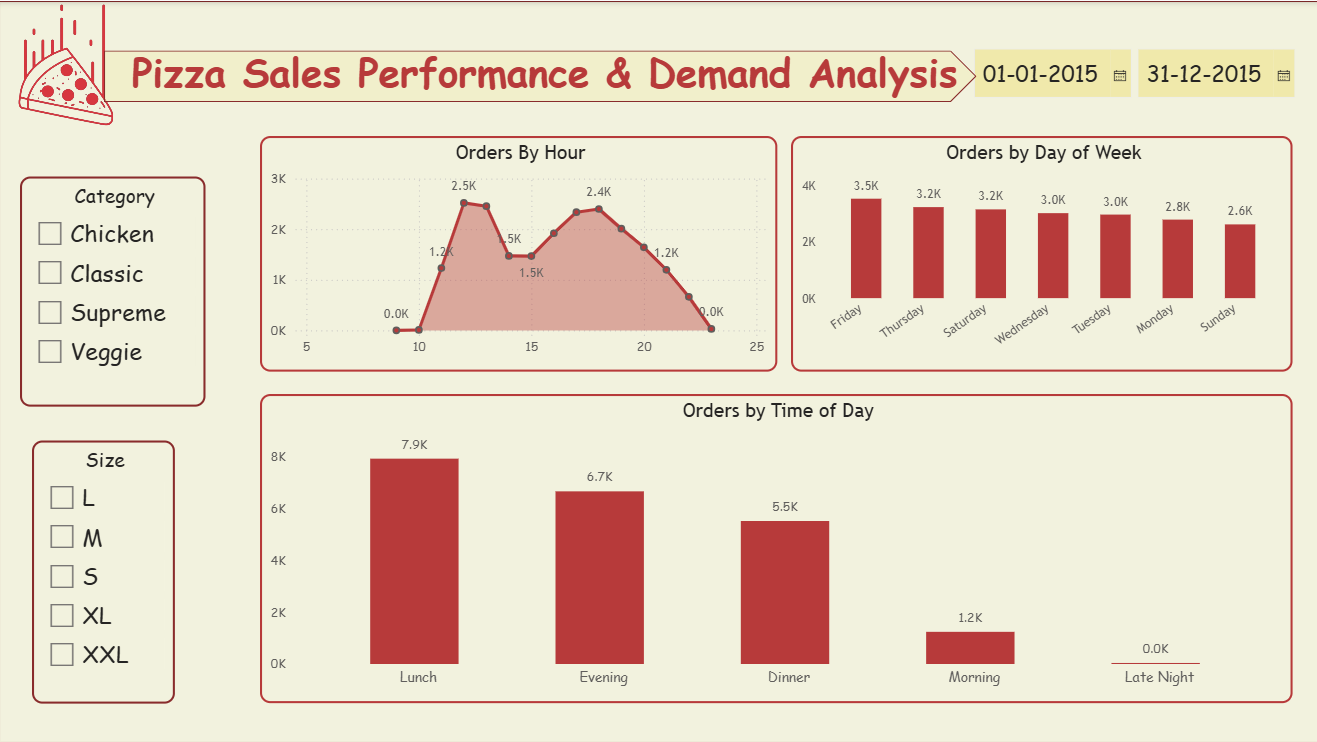

The page's visual inventory and layout, read from the dashboard file:
{"tool":"powerbi","page":{"name":"Time & Demand Analysis","canvas":[1280,720],"ordinal":1},"visuals":[{"type":"shape","box":[0,0,1280,720],"z":0},{"type":"slicer","fields":{"Values":["orders.date"]},"box":[933.3,36.7,346.7,85],"z":1000},{"type":"slicer","title":"Category","fields":{"Values":["pizza_types.category"]},"box":[20,170,180,223.3],"z":2000},{"type":"slicer","title":"Size","fields":{"Values":["pizzas.size"]},"box":[31.7,426.7,138.3,255],"z":3000},{"type":"image","box":[0,0,128.3,121.7],"z":4000},{"type":"shape","box":[101.7,48.3,846.7,50],"z":5000},{"type":"textbox","box":[123.3,36.7,843.3,85],"z":6000},{"type":"lineChart","title":"Orders By Hour","fields":{"Category":["orders.Order Hour"],"Y":["CountNonNull(orders.order_id)"]},"box":[253.3,131.7,501.7,228.3],"z":7000},{"type":"clusteredColumnChart","title":"Orders by Time of Day","fields":{"Category":["orders.Time of Day"],"Y":["CountNonNull(orders.order_id)"]},"box":[253.3,381.7,1001.7,300],"z":8000},{"type":"clusteredColumnChart","title":"Orders by Day of Week","fields":{"Category":["orders.Order Day"],"Y":["CountNonNull(orders.order_id)"]},"box":[768.3,131.7,486.7,228.3],"z":9000}]}

Visuals, with their boxes in screenshot pixels (x1, y1, x2, y2), scaled from the page's 1280x720 canvas onto the 1317x742 screenshot:
shape: [x1=0, y1=0, x2=1316, y2=741]
slicer - orders.date: [x1=960, y1=38, x2=1316, y2=125]
"Category" slicer: [x1=21, y1=175, x2=206, y2=405]
"Size" slicer: [x1=33, y1=440, x2=175, y2=703]
image: [x1=0, y1=0, x2=132, y2=125]
shape: [x1=105, y1=50, x2=976, y2=101]
textbox: [x1=127, y1=38, x2=995, y2=125]
"Orders By Hour" lineChart: [x1=261, y1=136, x2=777, y2=371]
"Orders by Time of Day" clusteredColumnChart: [x1=261, y1=393, x2=1291, y2=703]
"Orders by Day of Week" clusteredColumnChart: [x1=791, y1=136, x2=1291, y2=371]
